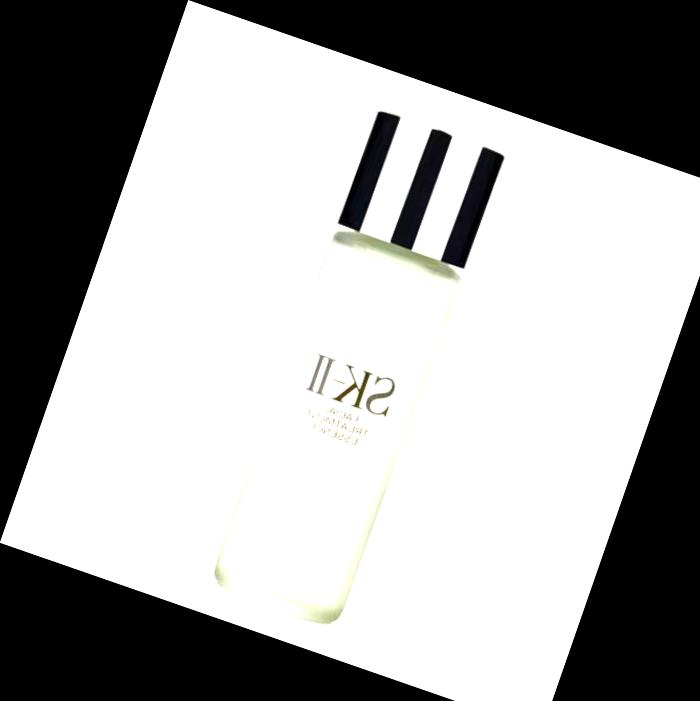cosmetic: (201, 108, 506, 635)
